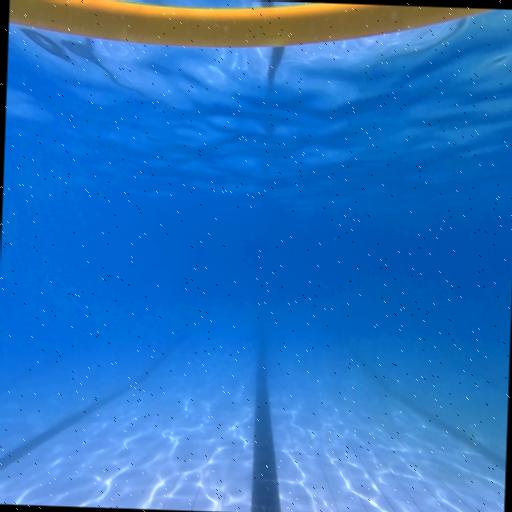upper_gate: (7, 0, 512, 57)
